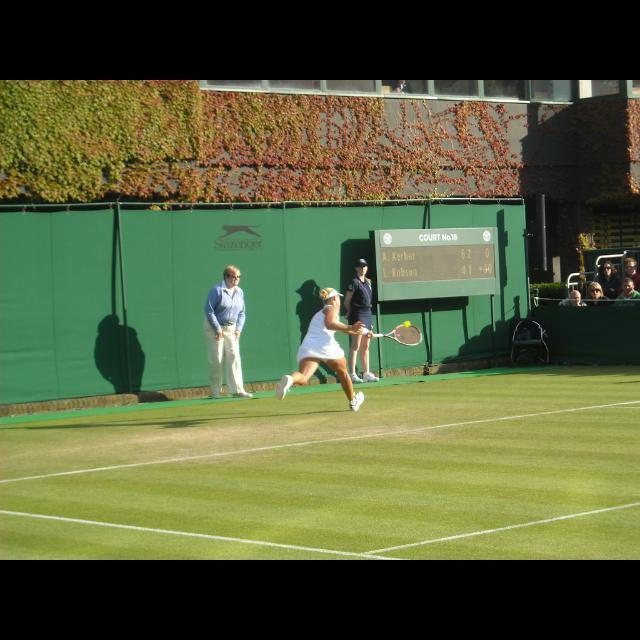tennis-ball: (403, 320, 410, 328)
